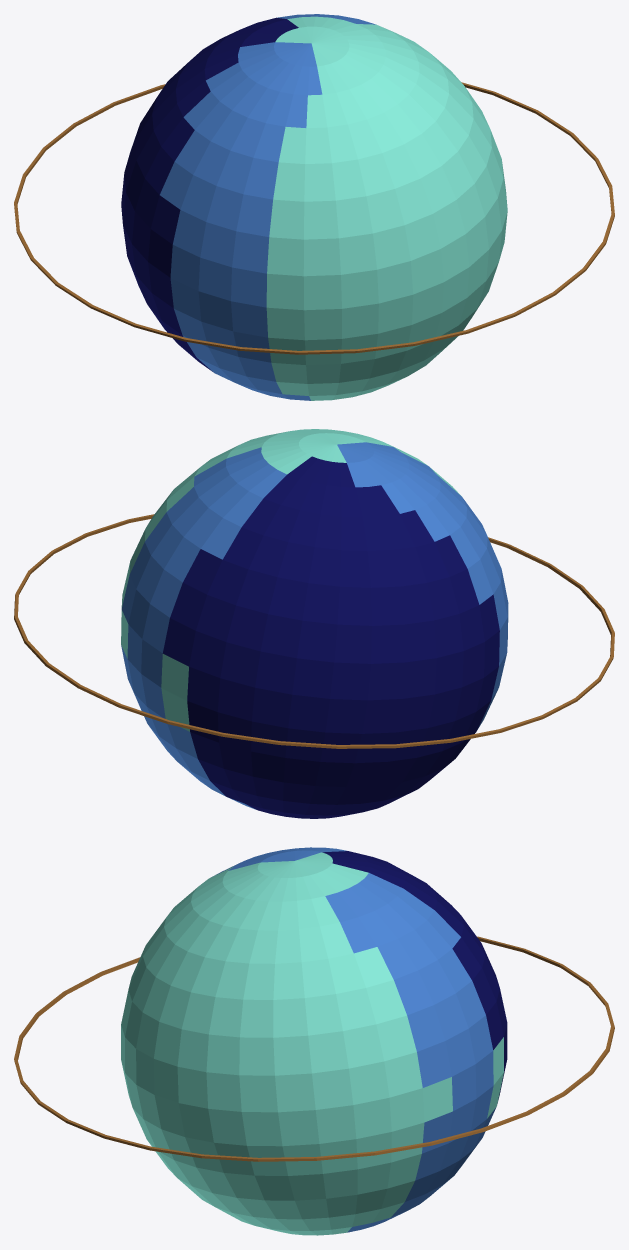
File: Planet1.fbx
The picture shows the model from 3 angles, top to bottom: view 1: azimuth 30°, elevation 25°; view 2: azimuth 150°, elevation 25°; view 3: azimuth 270°, elevation 25°; orthographic projection.
Visible parts, largest first — view 1: Sphere; view 2: Sphere; view 3: Sphere.
Part boxes in pixels (x1,y1,x2,y2): Sphere: (14,14,614,400); Sphere: (14,429,614,818); Sphere: (14,847,614,1235).
Size of the model in its own units: 1988 by 1278 by 1984.
